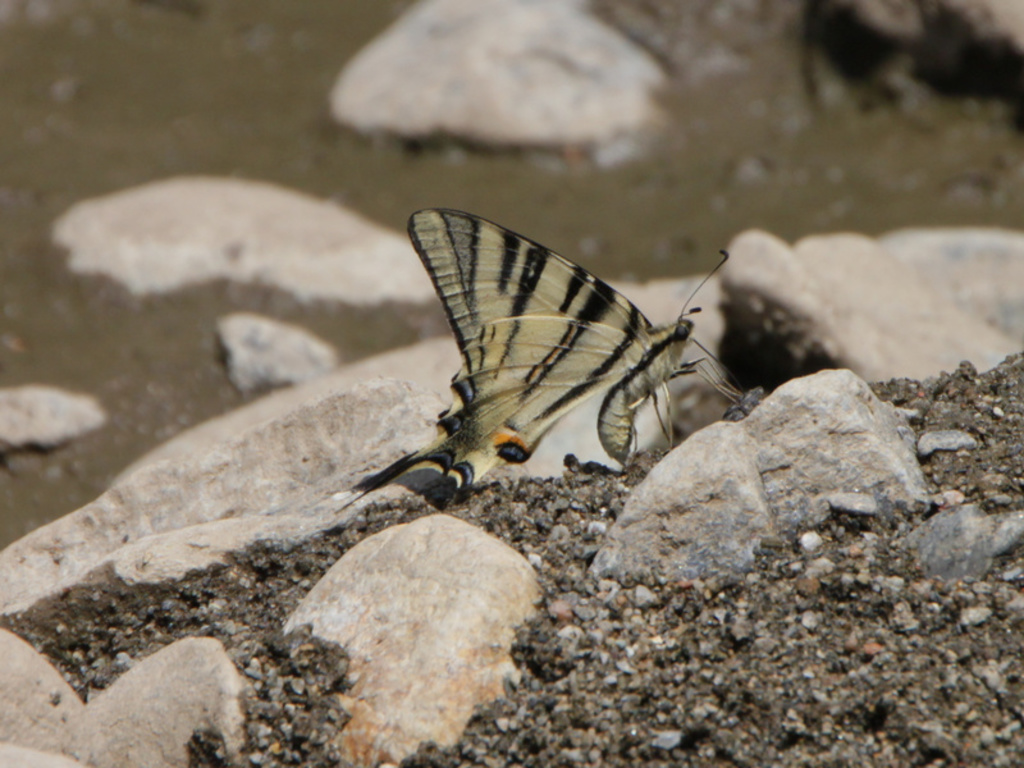Butterfly: (356, 186, 803, 540)
